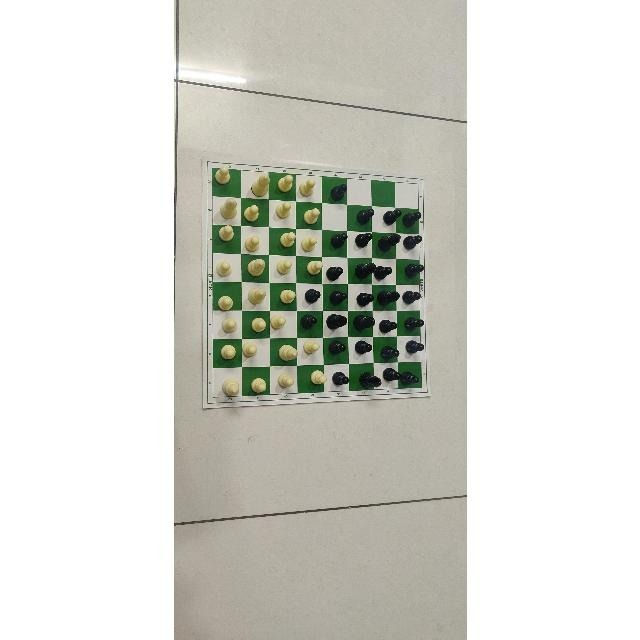black-bishop: (355, 366, 381, 394), (376, 229, 400, 253), (323, 310, 346, 333), (350, 313, 376, 333), (350, 260, 374, 280), (375, 287, 399, 307)
black-pawn: (325, 177, 349, 205), (401, 204, 427, 229), (399, 366, 423, 388), (351, 205, 376, 225), (400, 286, 425, 306), (326, 228, 348, 250), (327, 367, 351, 387), (376, 342, 401, 361), (324, 260, 344, 283), (325, 287, 348, 307), (378, 207, 402, 226), (401, 313, 427, 330), (401, 260, 424, 279), (401, 233, 424, 252), (296, 312, 318, 331), (352, 288, 374, 307), (349, 231, 372, 249), (399, 340, 426, 355), (377, 315, 397, 335), (299, 287, 321, 305), (326, 338, 346, 356), (352, 338, 372, 356), (379, 366, 399, 384), (376, 261, 392, 281)
white-bishop: (216, 373, 241, 405), (244, 170, 270, 197), (239, 256, 268, 278), (215, 197, 239, 222), (242, 285, 266, 308), (274, 340, 298, 361)
white-pawn: (305, 368, 327, 391), (211, 292, 236, 312), (238, 345, 265, 363), (247, 374, 269, 396), (210, 165, 232, 186), (274, 172, 294, 195), (211, 259, 235, 278), (215, 341, 239, 360), (273, 288, 294, 309), (298, 232, 319, 253), (273, 200, 293, 222), (300, 258, 322, 278), (275, 229, 294, 252), (213, 223, 235, 242), (240, 233, 263, 251), (295, 177, 316, 196), (217, 316, 239, 334), (247, 316, 269, 334), (242, 200, 259, 223), (300, 205, 320, 224), (273, 372, 295, 389), (270, 312, 288, 332), (299, 338, 318, 356), (274, 260, 291, 279)
